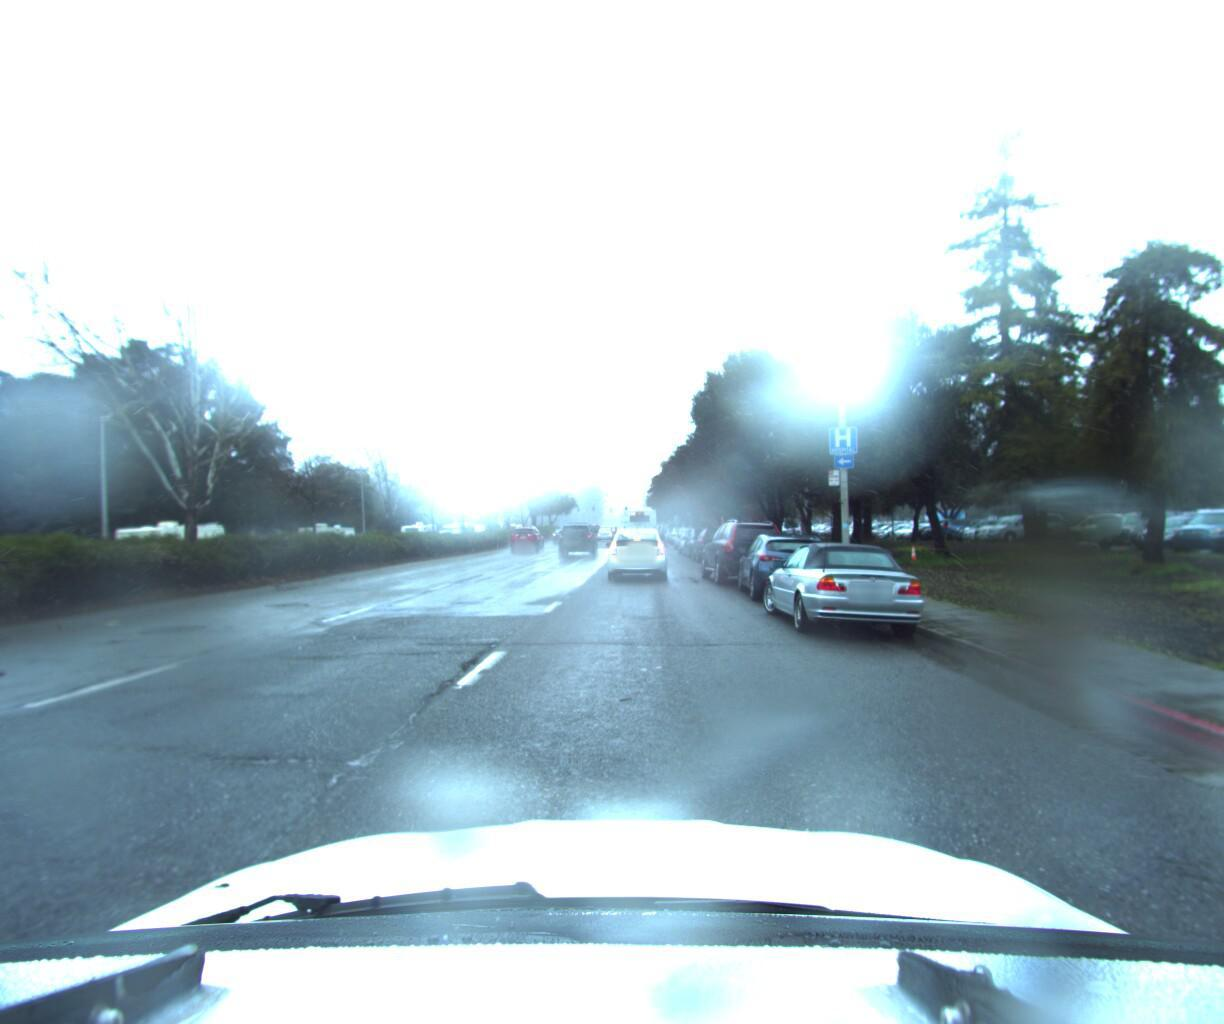bus: (621, 500, 661, 546)
car: (754, 534, 933, 640), (730, 527, 842, 602), (691, 514, 786, 589), (606, 521, 670, 580), (684, 525, 741, 563), (556, 520, 600, 557), (507, 523, 545, 551), (598, 524, 618, 542)
other_vehicle: (106, 519, 236, 584), (291, 519, 363, 561)
